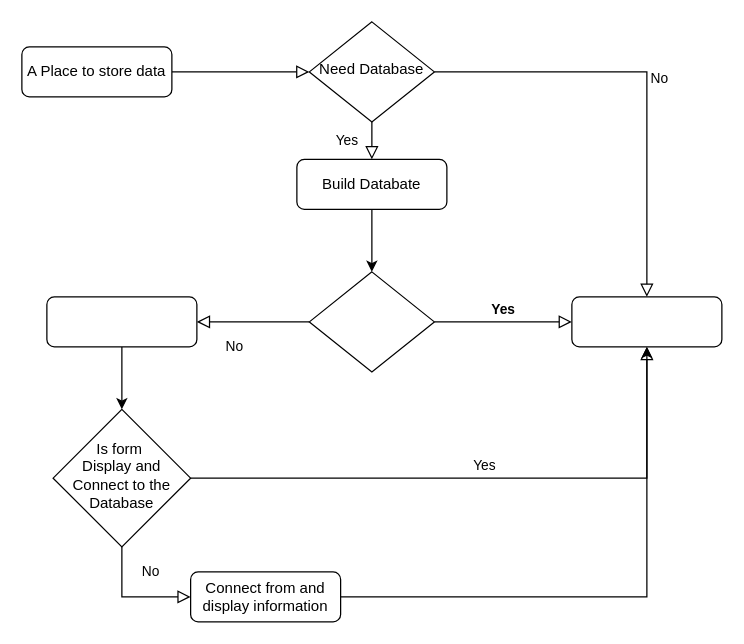
Some shapes in this 744 by 644 pixel diagram are drawn without their labels. Each missing label, with the centre of its shape:
"Build a Form" goes at point (121, 321).
"Is Data Collected" goes at point (371, 321).
"Move to Displaying Data" goes at point (646, 321).
